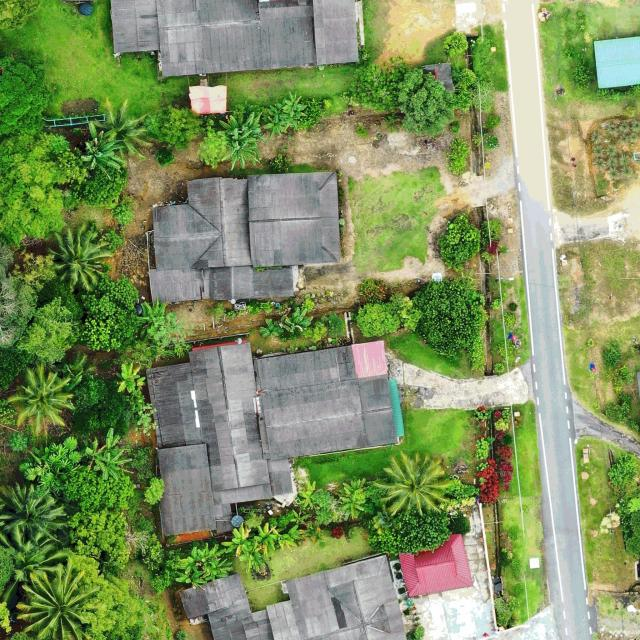Tree: (0, 126, 90, 245), (412, 275, 489, 359), (14, 564, 96, 640), (376, 451, 457, 520), (6, 363, 76, 437), (0, 525, 65, 601), (80, 275, 142, 354), (47, 223, 113, 293), (0, 478, 66, 547), (366, 505, 454, 555), (340, 55, 413, 114), (0, 53, 52, 135), (396, 70, 456, 138), (18, 297, 80, 362), (96, 94, 155, 162), (68, 507, 134, 566), (64, 466, 142, 513), (354, 291, 422, 339), (143, 104, 204, 153), (81, 119, 128, 180), (219, 111, 264, 171), (176, 540, 232, 587), (437, 210, 482, 268), (86, 427, 134, 479), (79, 166, 129, 209), (264, 90, 308, 138), (154, 312, 198, 358), (59, 350, 98, 390), (606, 450, 640, 488), (136, 300, 167, 341), (337, 478, 368, 518), (223, 520, 255, 558), (112, 361, 146, 394), (238, 543, 268, 574), (253, 524, 280, 550), (443, 31, 469, 57), (278, 526, 304, 550), (298, 480, 318, 507)
